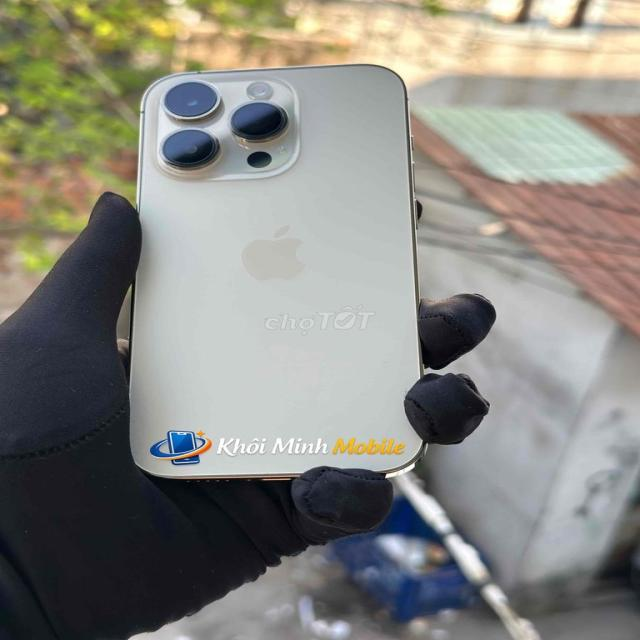gen_14: (117, 58, 430, 480)
